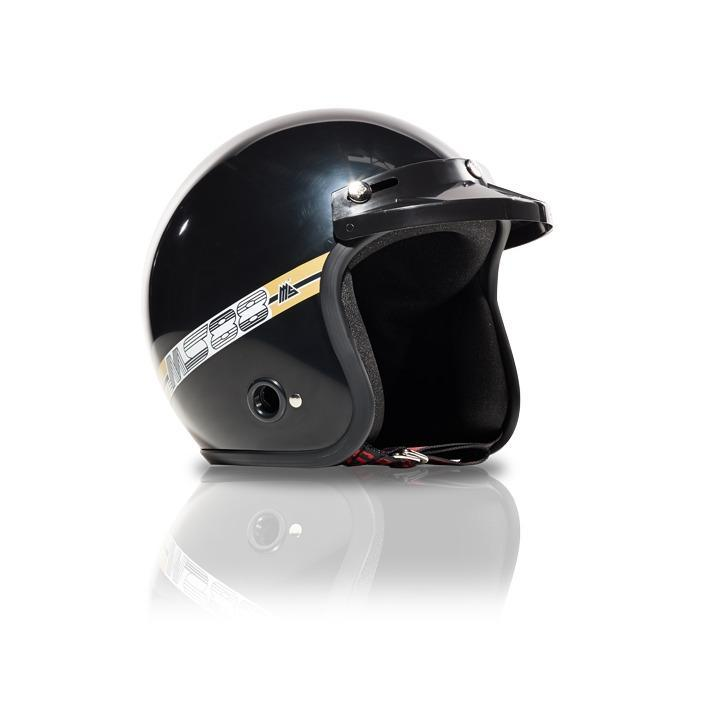helmet: (144, 113, 556, 472)
